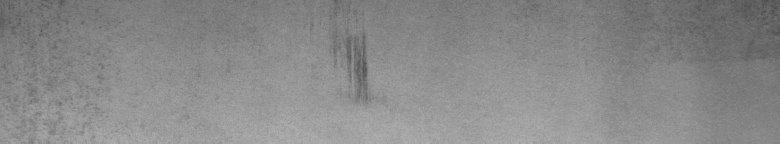ka: (344, 35, 372, 92)
